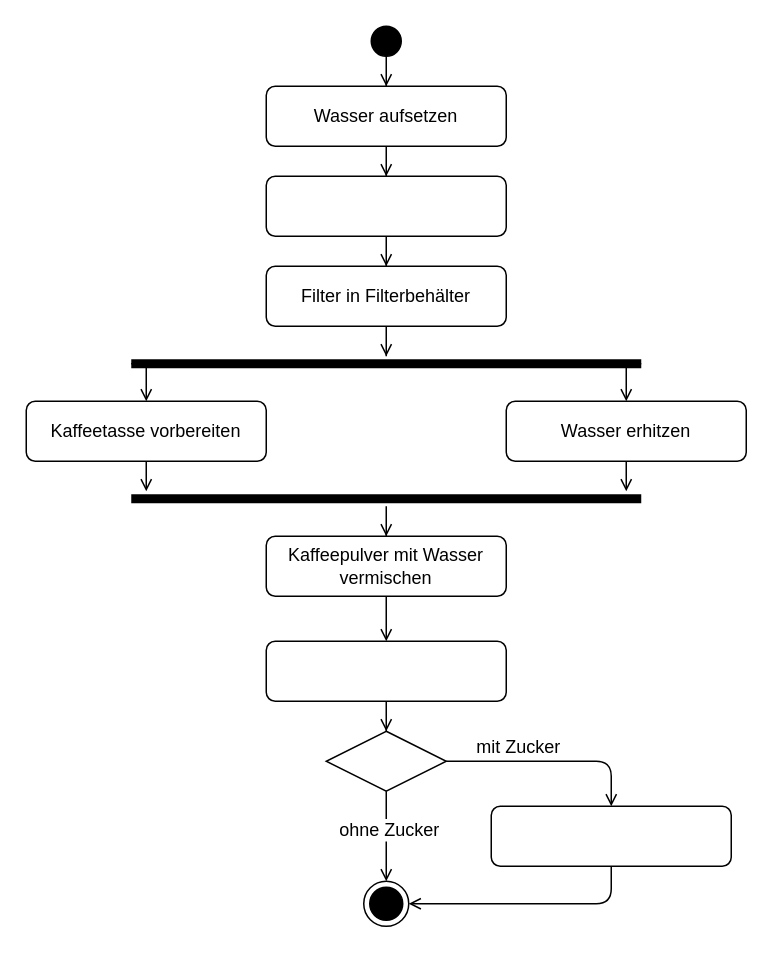
Image size: 773x953. Some labels were removed from this diagram. Each missing label, with the box of its shape:
Kaffee in die Tasse füllen: (265, 640, 506, 701)
Kaffeepulver in Filter füllen: (265, 175, 506, 236)
Zucker einfügen: (490, 805, 731, 866)
